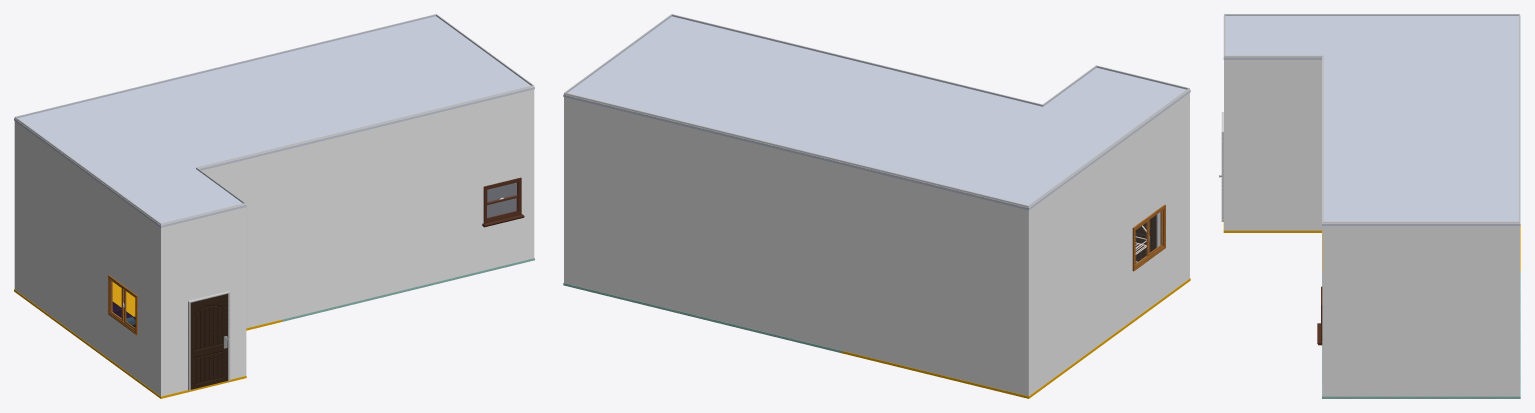
Rendered from ProcTHOR-Train-64.glb.
3 renders of one model, left to right at view 1: azimuth 30°, elevation 25°; view 2: azimuth 150°, elevation 25°; view 3: azimuth 270°, elevation 25°, orthographic. The views are drawn at different scales.
Visible parts, largest first — view 1: WallInside#wall|exterior|0.00|4.11|6.16|4.11, Ceiling#room|2|c, WallInside#wall|exterior|10.27|0.00|10.27|6.16, Ceiling#room|3|c, WallInside#wall|exterior|8.21|6.16|10.27|6.16, WallInside#wall|exterior|6.16|4.11|8.21|4.11, Doorway_9, Floor#room|3|f, WallInside#wall|2|0.00|0.00|0.00|4.11, Window_Hung_36x32, Window_Slider_48x36, Floor#room|2|f (+1 smaller); view 2: WallInside#wall|exterior|0.00|0.00|6.16|0.00, WallInside#wall|exterior|6.16|0.00|10.27|0.00, Ceiling#room|2|c, WallInside#wall|exterior|10.27|0.00|10.27|6.16, Ceiling#room|3|c, Floor#room|3|f, Floor#room|2|f, Window_Slider_48x36, WallInside#wall|2|0.00|4.11|6.16|4.11, Doorway_9; view 3: WallInside#wall|exterior|0.00|0.00|0.00|4.11, Ceiling#room|2|c, Ceiling#room|3|c, WallInside#wall|exterior|8.21|4.11|8.21|6.16, Floor#room|2|f, WallInside#wall|3|10.27|0.00|10.27|6.16, Floor#room|3|f, Doorway_9, WallInside#wall|exterior|0.00|4.11|6.16|4.11, WallInside#wall|exterior|10.27|0.00|10.27|6.16.
Part boxes in pixels (bbox=[...]): WallInside#wall|exterior|0.00|4.11|6.16|4.11: bbox=[281, 85, 534, 319]; Ceiling#room|2|c: bbox=[185, 16, 534, 150]; WallInside#wall|exterior|10.27|0.00|10.27|6.16: bbox=[14, 117, 160, 396]; Ceiling#room|3|c: bbox=[14, 77, 282, 227]; WallInside#wall|exterior|8.21|6.16|10.27|6.16: bbox=[161, 203, 245, 396]; WallInside#wall|exterior|6.16|4.11|8.21|4.11: bbox=[197, 147, 281, 328]; Doorway_9: bbox=[188, 291, 230, 390]; Floor#room|3|f: bbox=[14, 282, 282, 398]; WallInside#wall|2|0.00|0.00|0.00|4.11: bbox=[436, 14, 532, 217]; Window_Hung_36x32: bbox=[482, 177, 524, 227]; Window_Slider_48x36: bbox=[108, 275, 137, 335]; Floor#room|2|f: bbox=[282, 258, 534, 321]; WallInside#wall|exterior|0.00|0.00|6.16|0.00: bbox=[564, 92, 842, 350]; WallInside#wall|exterior|6.16|0.00|10.27|0.00: bbox=[842, 160, 1028, 396]; Ceiling#room|2|c: bbox=[563, 16, 949, 164]; WallInside#wall|exterior|10.27|0.00|10.27|6.16: bbox=[1028, 88, 1189, 395]; Ceiling#room|3|c: bbox=[841, 67, 1190, 210]; Floor#room|3|f: bbox=[841, 278, 1190, 398]; Floor#room|2|f: bbox=[563, 283, 841, 353]; Window_Slider_48x36: bbox=[1132, 204, 1165, 271]; WallInside#wall|2|0.00|4.11|6.16|4.11: bbox=[672, 14, 949, 83]; Doorway_9: bbox=[1135, 212, 1159, 263]; WallInside#wall|exterior|0.00|0.00|0.00|4.11: bbox=[1322, 222, 1519, 396]; Ceiling#room|2|c: bbox=[1322, 98, 1520, 225]; Ceiling#room|3|c: bbox=[1223, 15, 1520, 99]; WallInside#wall|exterior|8.21|4.11|8.21|6.16: bbox=[1224, 55, 1322, 230]; Floor#room|2|f: bbox=[1322, 271, 1520, 398]; WallInside#wall|3|10.27|0.00|10.27|6.16: bbox=[1225, 14, 1519, 15]; Floor#room|3|f: bbox=[1223, 222, 1520, 271]; Doorway_9: bbox=[1219, 112, 1223, 221]; WallInside#wall|exterior|0.00|4.11|6.16|4.11: bbox=[1322, 97, 1322, 396]; WallInside#wall|exterior|10.27|0.00|10.27|6.16: bbox=[1225, 14, 1518, 14].
Size of what is drawn, in the model's own units: 10.33 by 4.07 by 6.29.
Materials: 165 (67 with a texture image).
